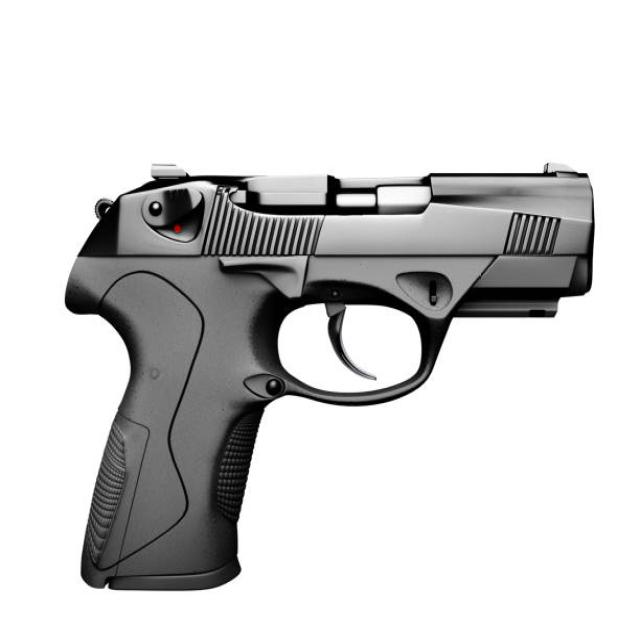pistol: (64, 158, 607, 598)
